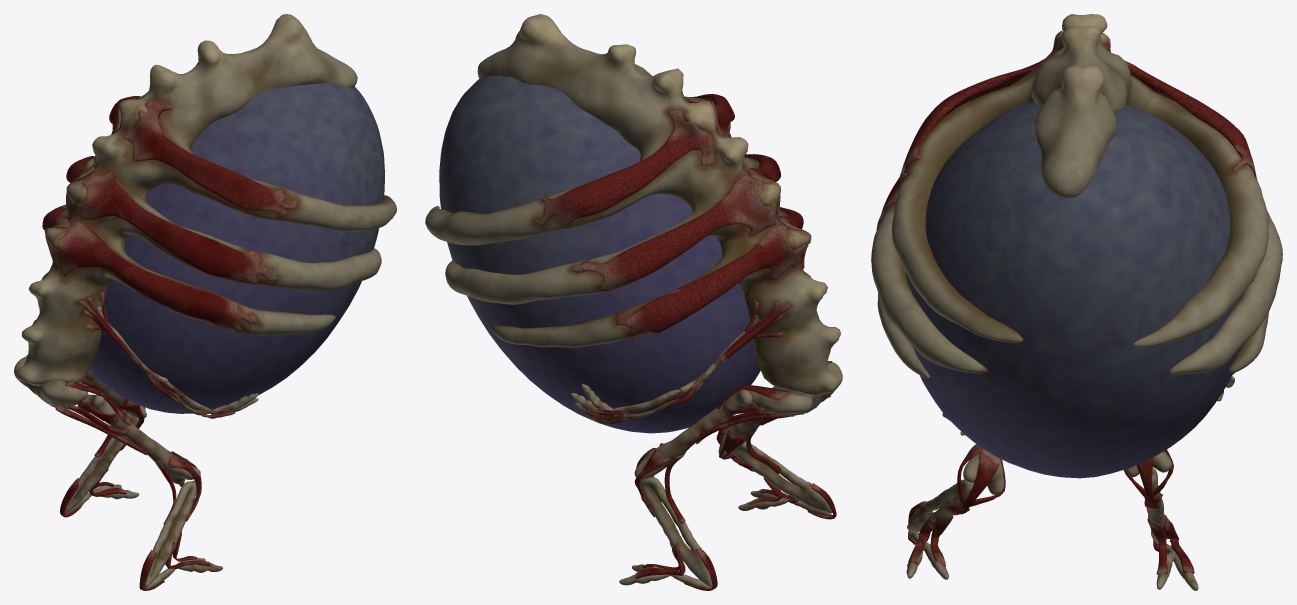
File: Egg_web.glb
3 views of the same model, side by side, from view 1: azimuth 30°, elevation 25°; view 2: azimuth 150°, elevation 25°; view 3: azimuth 270°, elevation 25° (orthographic). The views are drawn at different scales.
Visible parts, largest first — view 1: Egg, Retopo_Spine.001, Muscle_LOW; view 2: Retopo_Spine.001, Egg, Muscle_LOW; view 3: Egg, Retopo_Spine.001, Muscle_LOW.
Part boxes in pixels (x1,y1,x2,y2): Egg: (89, 82, 384, 413); Retopo_Spine.001: (14, 14, 396, 588); Muscle_LOW: (26, 95, 297, 590); Retopo_Spine.001: (425, 14, 842, 588); Egg: (439, 75, 760, 433); Muscle_LOW: (535, 94, 836, 590); Egg: (905, 101, 1240, 478); Retopo_Spine.001: (871, 14, 1282, 590); Muscle_LOW: (876, 31, 1257, 575).
Size of the model in its own units: 1.85 by 2.34 by 1.45.
3 materials, 3 textured.
